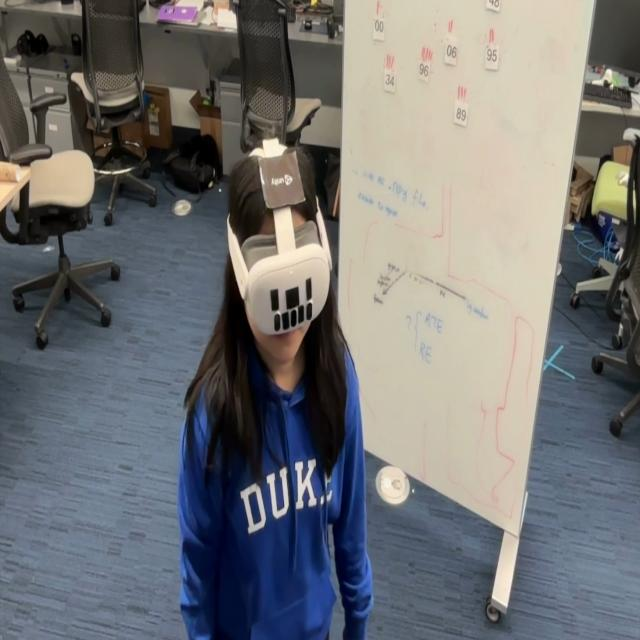UnityLogo: (257, 147, 307, 212)
